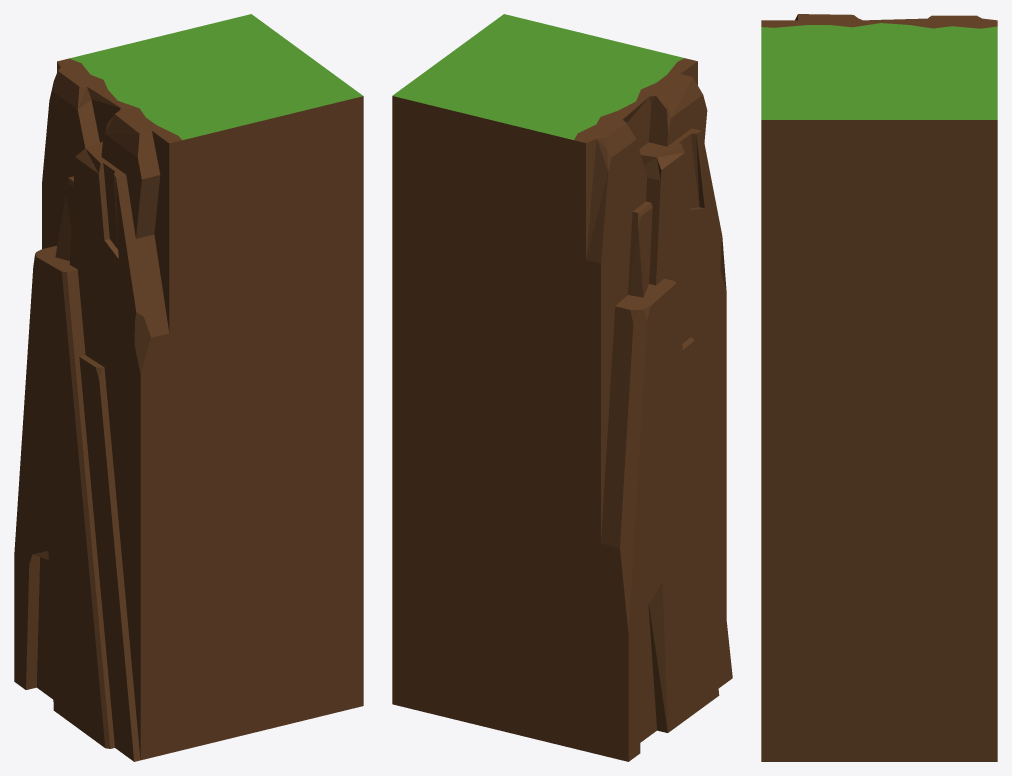
File: Cliff x3 1.fbx
3 renders of one model, left to right at view 1: azimuth 30°, elevation 25°; view 2: azimuth 150°, elevation 25°; view 3: azimuth 270°, elevation 25°, orthographic. The views are drawn at different scales.
Parts seen in each view (by area): view 1: Cliff x3 1; view 2: Cliff x3 1; view 3: Cliff x3 1.
Boxes of the visible parts, x1=… form: Cliff x3 1: x1=14, y1=14, x2=363, y2=761; Cliff x3 1: x1=392, y1=14, x2=732, y2=761; Cliff x3 1: x1=761, y1=14, x2=997, y2=761.
Size of the model in its own units: 2.44 by 6 by 2.
